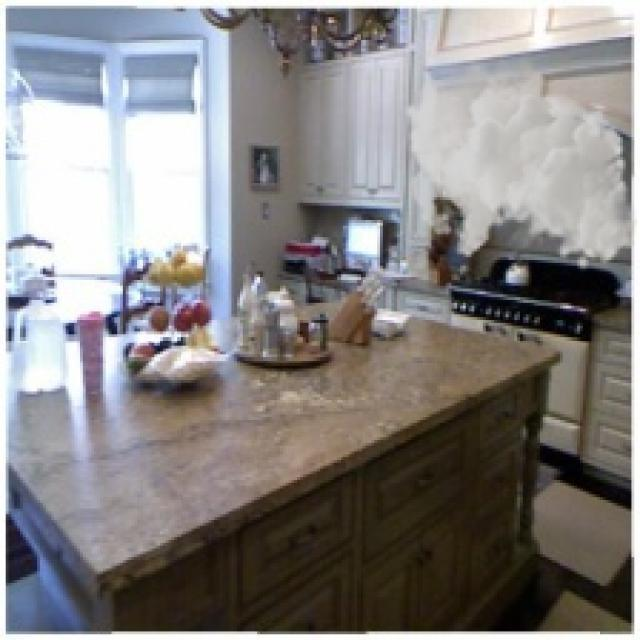Smoke: (402, 51, 638, 272)
